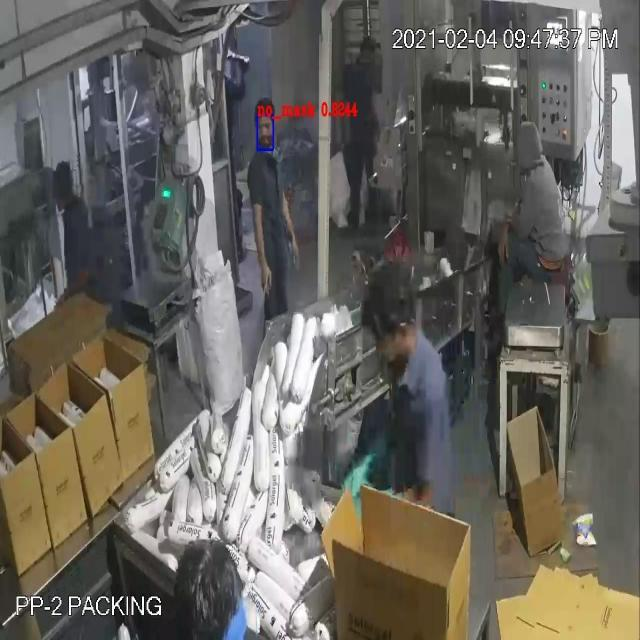No_Gloves: (24, 38, 505, 457)
